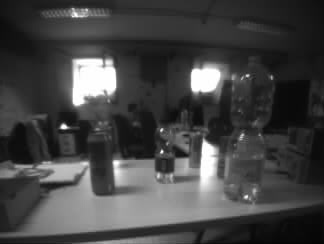Bottle: (224, 62, 272, 200), (154, 122, 174, 183)
Tin can: (87, 132, 117, 195), (188, 131, 201, 167)
